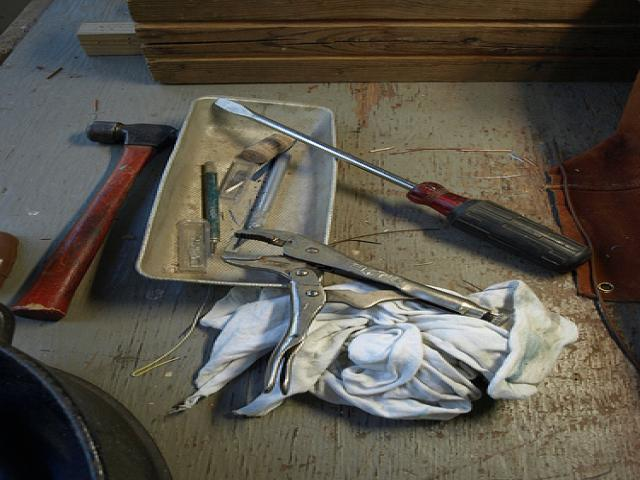Hammer: (12, 121, 178, 321)
Screwdriver: (215, 100, 592, 272)
